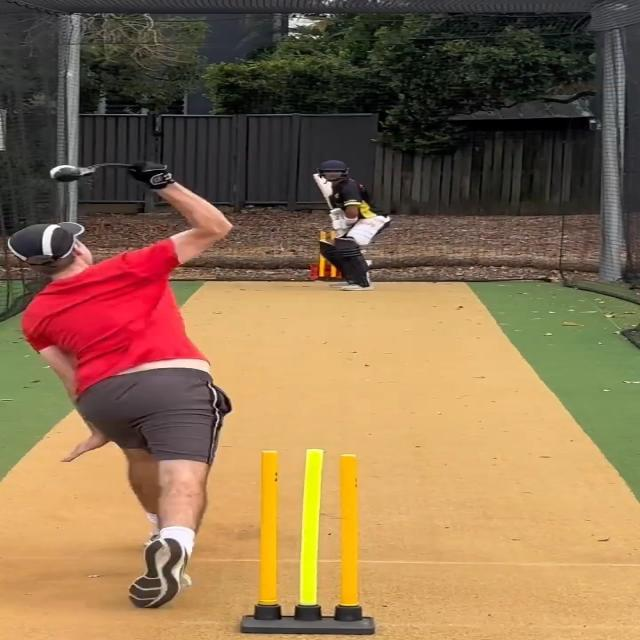stump: (246, 449, 374, 635)
